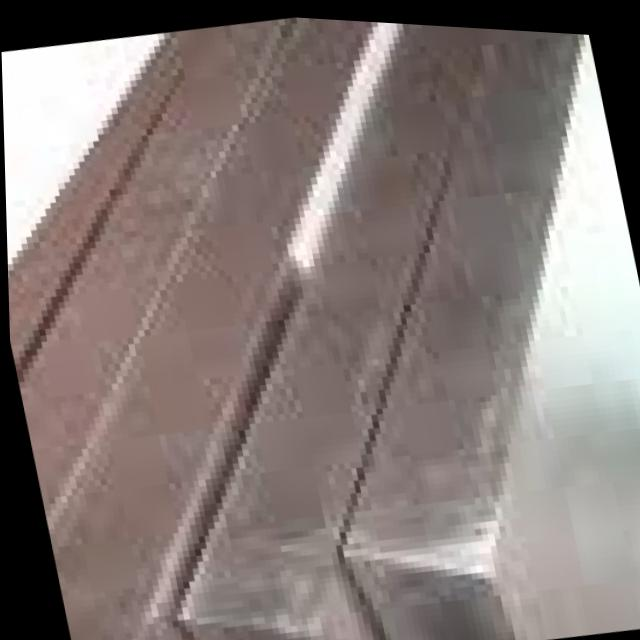metal-plates: (7, 15, 640, 640)
